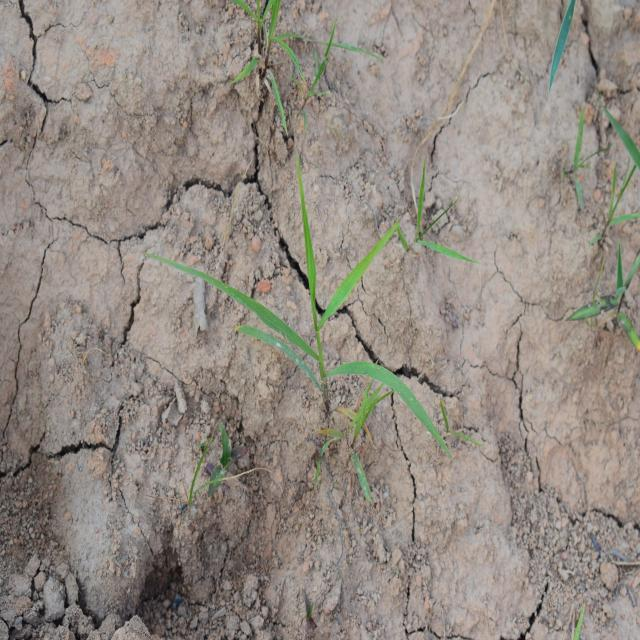green_foxtail: (195, 225, 432, 430)
